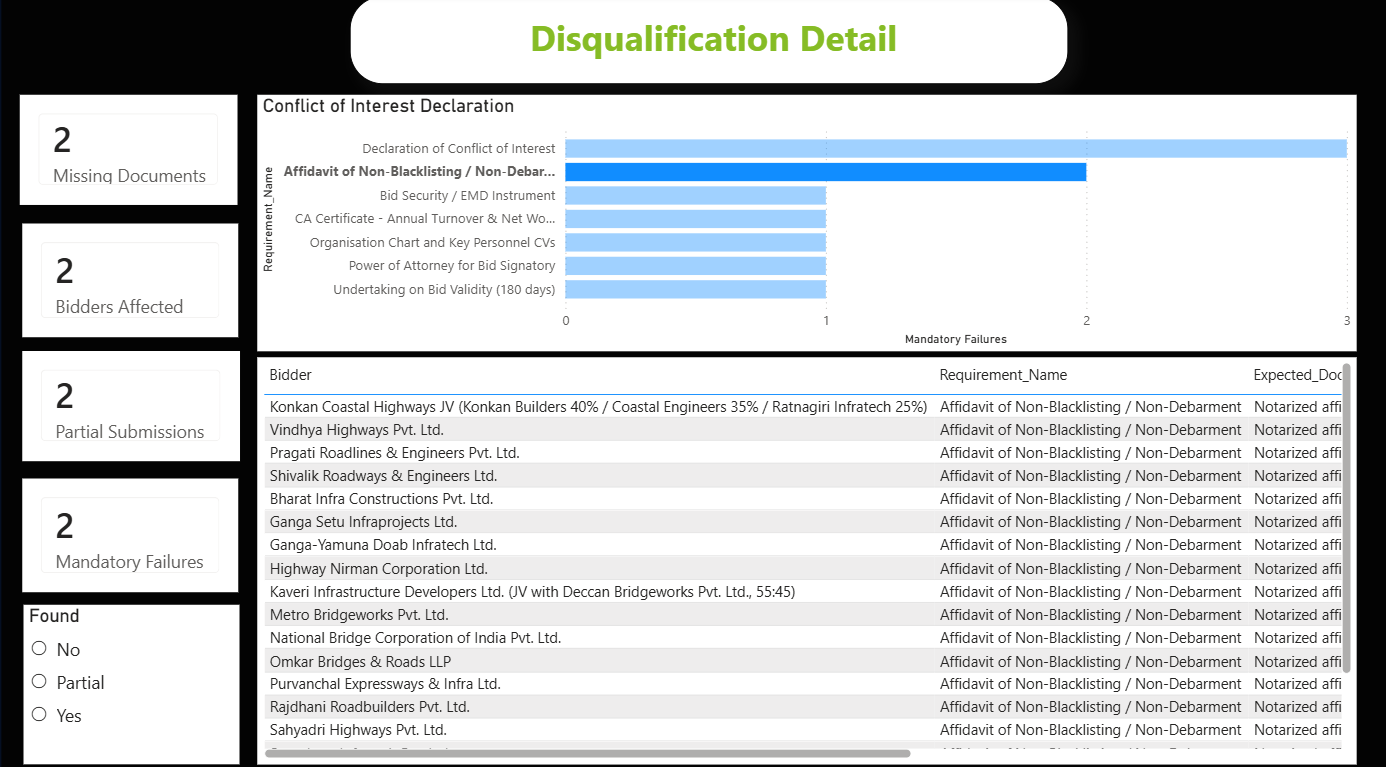

The dashboard page shown, as its layout file describes it:
{"tool":"powerbi","page":{"name":"Disqualification Detail","canvas":[1280,720],"ordinal":2},"visuals":[{"type":"cardVisual","fields":{"Data":["02_Output.Missing Documents"]},"box":[26.6,89.8,197.9,99.8],"z":0},{"type":"cardVisual","fields":{"Data":["02_Output.Partial Submissions"]},"box":[28.3,322.6,197.9,99.8],"z":1000},{"type":"cardVisual","fields":{"Data":["02_Output.Mandatory Failures"]},"box":[28.3,437.4,196.2,103.1],"z":2000},{"type":"textbox","box":[326,0,651.9,79.8],"z":3000},{"type":"cardVisual","fields":{"Data":["02_Output.Bidders Affected"]},"box":[28.3,206.2,196.2,103.1],"z":4000},{"type":"barChart","title":"Conflict of Interest Declaration","fields":{"Category":["02_Output.Requirement_Name"],"Y":["02_Output.Mandatory Failures"]},"box":[241.1,89.8,997.8,232.8],"z":5000},{"type":"tableEx","fields":{"Values":["Bidder_Status.Bidder","02_Output.Requirement_Name","02_Output.Expected_Document","02_Output.Compliance_Status","02_Output.Remarks"]},"box":[241.1,327.6,997.8,369.2],"z":6000},{"type":"listSlicer","fields":{"Values":["02_Output.Found"]},"box":[29.9,552.1,196.2,144.7],"z":7000}]}

Visuals, with their boxes in screenshot pixels (x1, y1, x2, y2), scaled from the page's 1280x720 canvas onto the 1386x767 screenshot:
cardVisual - 02_Output.Missing Documents: BBox(29, 96, 243, 202)
cardVisual - 02_Output.Partial Submissions: BBox(31, 344, 245, 450)
cardVisual - 02_Output.Mandatory Failures: BBox(31, 466, 243, 576)
textbox: BBox(353, 0, 1059, 85)
cardVisual - 02_Output.Bidders Affected: BBox(31, 220, 243, 329)
"Conflict of Interest Declaration" barChart: BBox(261, 96, 1341, 344)
tableEx - Bidder_Status.Bidder x 02_Output.Requirement_Name: BBox(261, 349, 1341, 742)
listSlicer - 02_Output.Found: BBox(32, 588, 245, 742)
